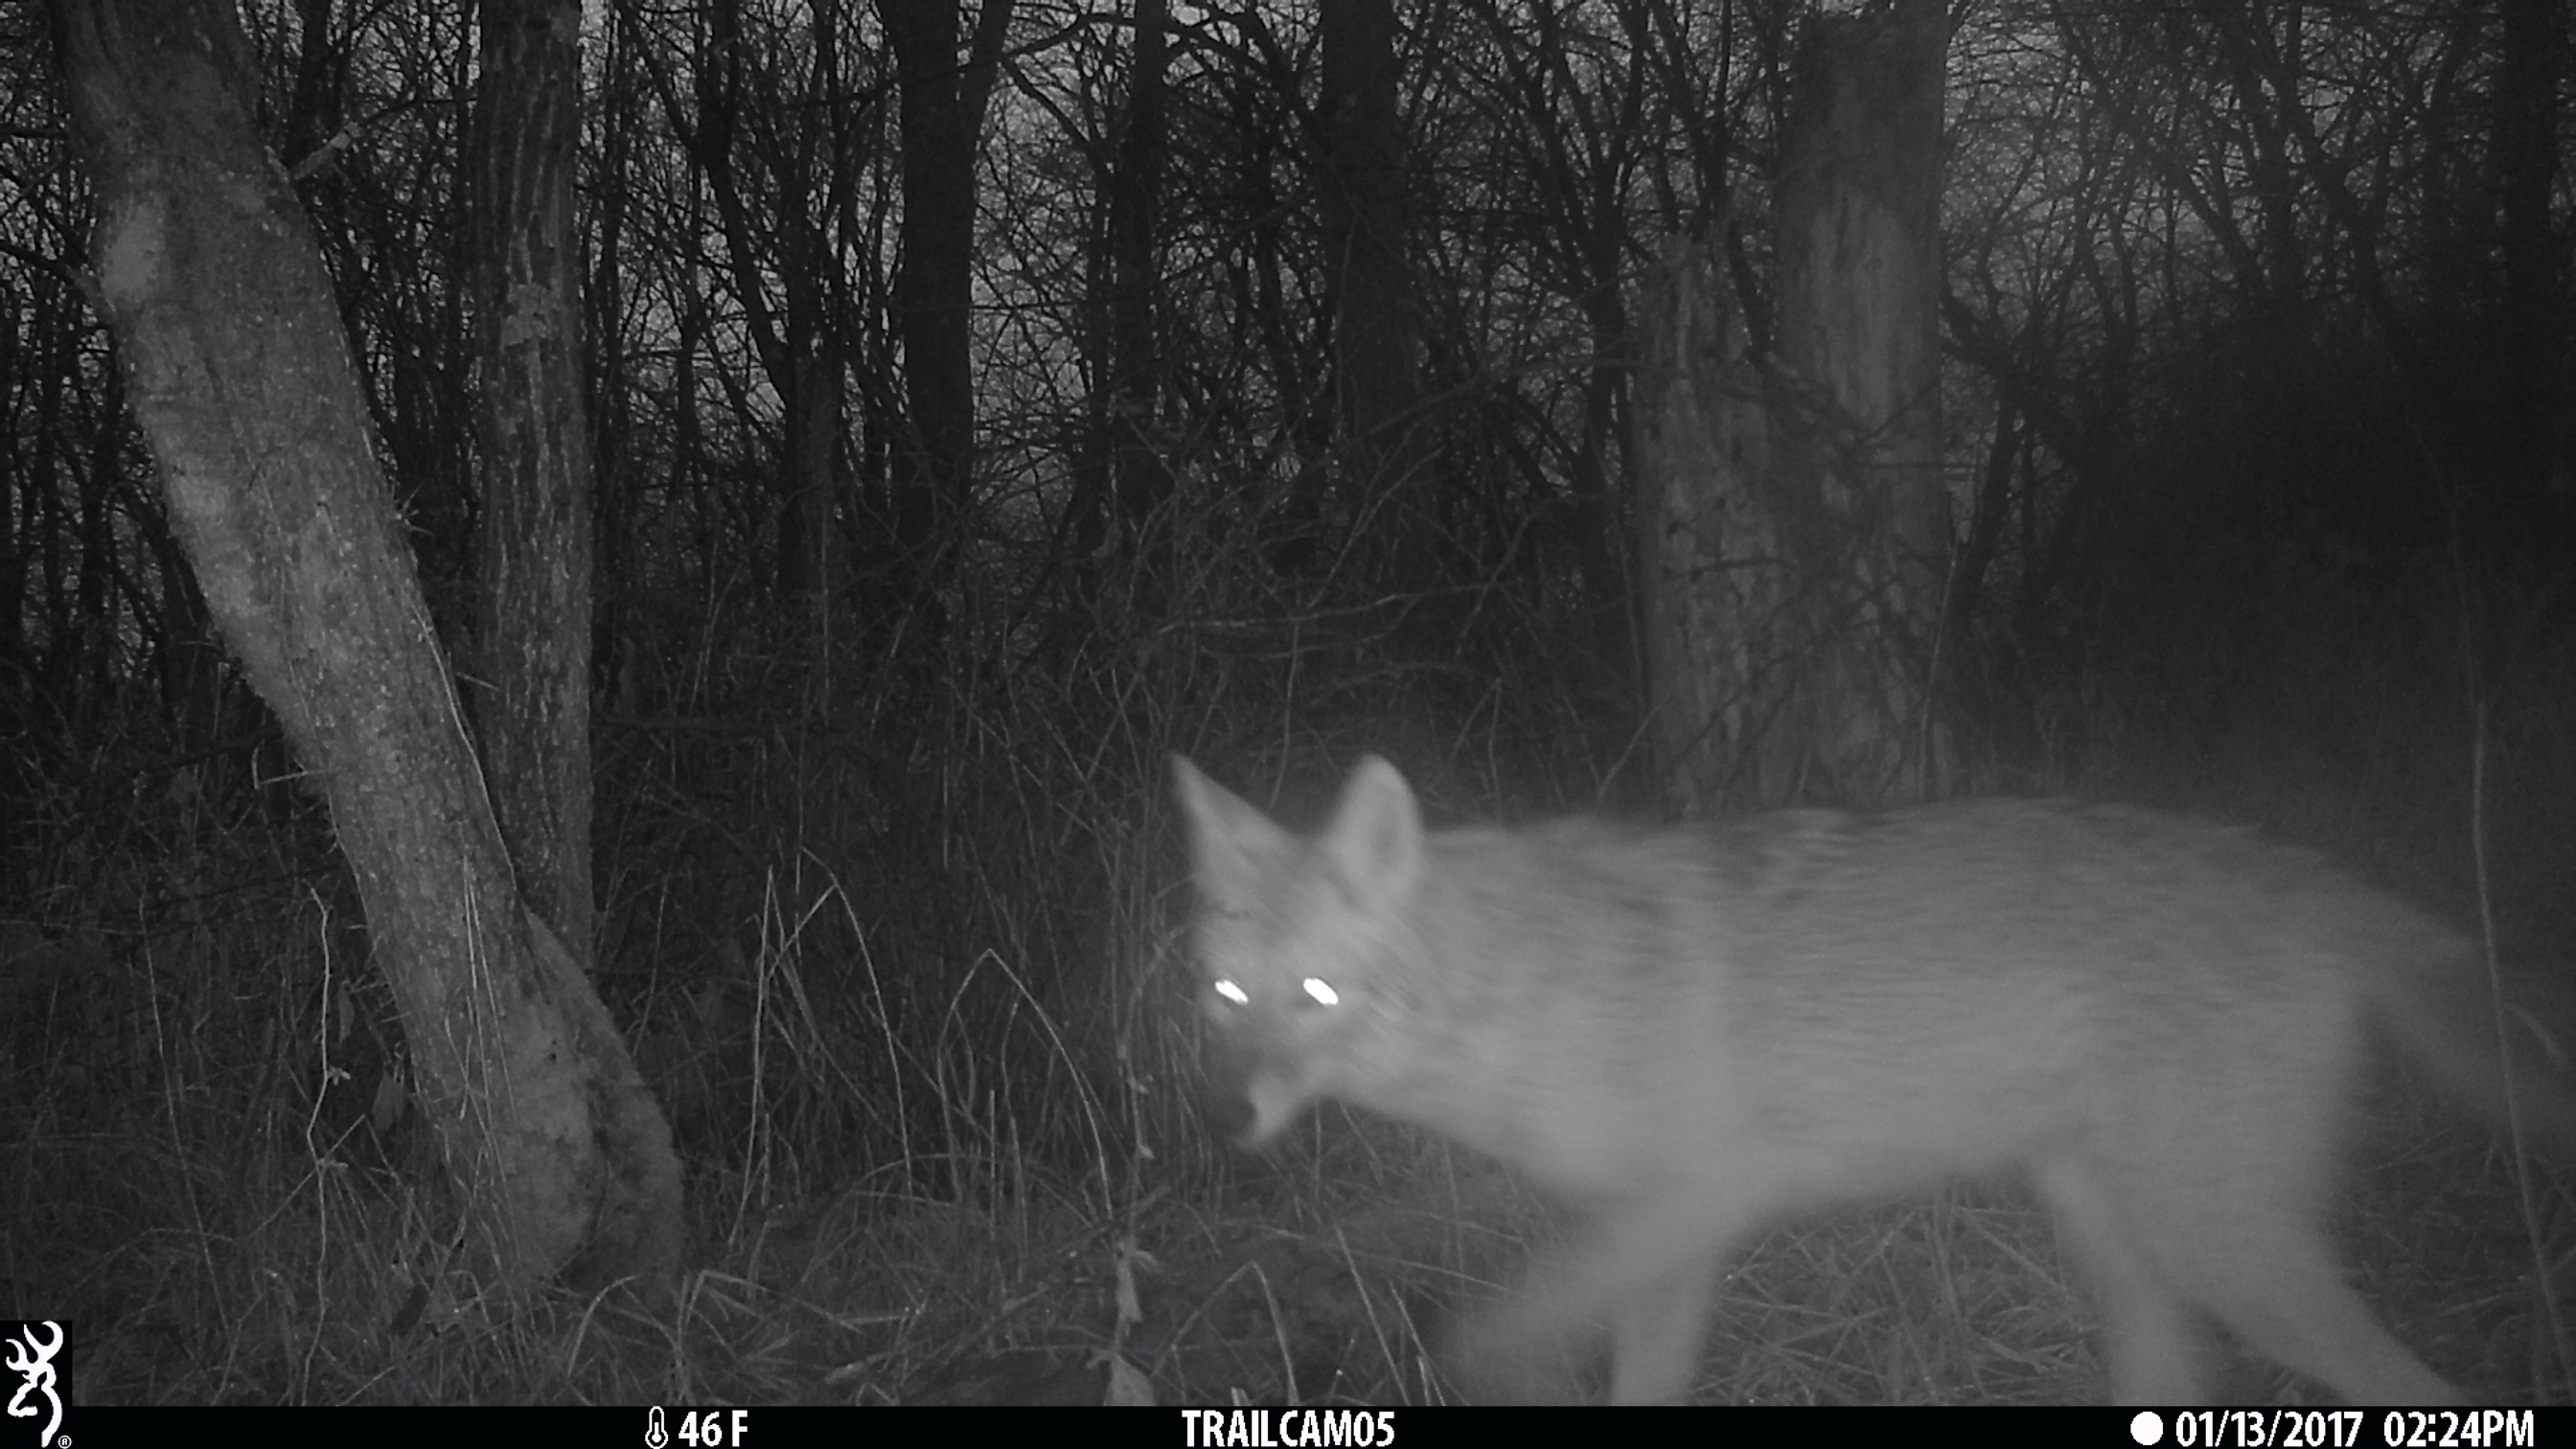Coyote: (1168, 755, 2565, 1407)
